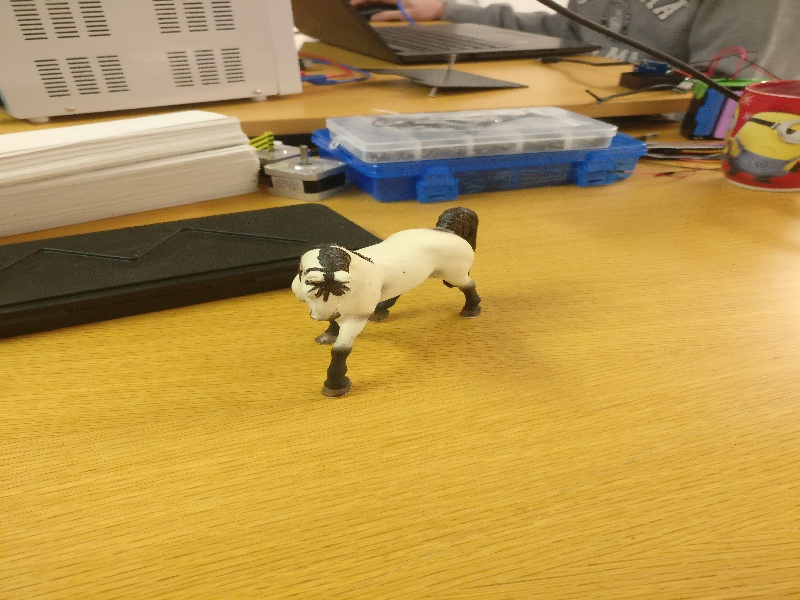toy: (290, 205, 486, 405)
